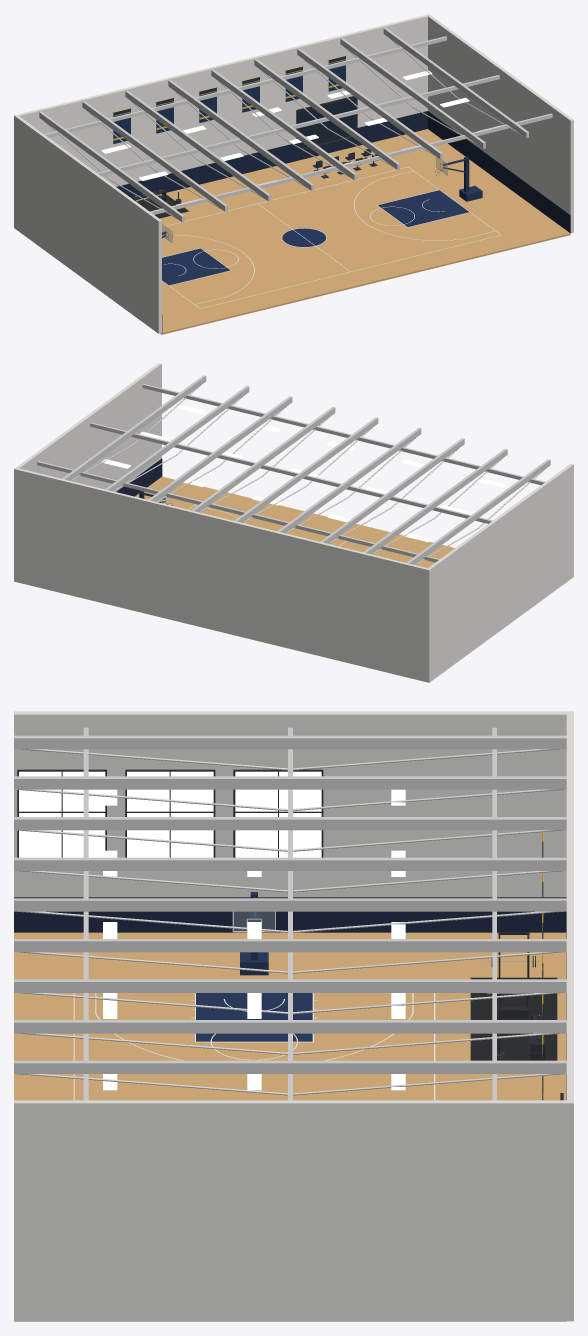
File: loc_practice_gym.glb
The picture shows the model from 3 angles, top to bottom: view 1: azimuth 30°, elevation 25°; view 2: azimuth 150°, elevation 25°; view 3: azimuth 270°, elevation 25°; orthographic projection. The views are drawn at different scales.
Visible parts, largest first — view 1: walls, floor, roof_trusses, walls_lower_band, court_paint, court_lines, film_screen, ceiling_lights, hoop_away_support, film_screen_frame; view 2: walls, roof_trusses, floor, ceiling_lights, walls_lower_band; view 3: walls, roof_trusses, floor, end_windows_glass, walls_lower_band, ceiling_lights, rubber_mat, court_paint, end_windows_frames, weight_racks, court_lines, hoop_home_support.
Boxes of the visible parts, bbox=[...] form: walls: bbox=[14, 14, 573, 333]; floor: bbox=[136, 129, 570, 334]; roof_trusses: bbox=[39, 27, 552, 222]; walls_lower_band: bbox=[116, 111, 570, 332]; court_paint: bbox=[162, 190, 469, 285]; court_lines: bbox=[162, 167, 501, 308]; film_screen: bbox=[299, 98, 355, 145]; ceiling_lights: bbox=[101, 70, 502, 204]; hoop_away_support: bbox=[442, 156, 482, 201]; film_screen_frame: bbox=[296, 96, 357, 150]; walls: bbox=[14, 363, 573, 682]; roof_trusses: bbox=[37, 375, 550, 564]; floor: bbox=[135, 476, 454, 567]; ceiling_lights: bbox=[102, 404, 506, 542]; walls_lower_band: bbox=[116, 458, 162, 496]; walls: bbox=[14, 711, 573, 1321]; roof_trusses: bbox=[14, 727, 566, 1100]; floor: bbox=[14, 932, 566, 1321]; end_windows_glass: bbox=[19, 771, 321, 857]; walls_lower_band: bbox=[14, 897, 566, 1099]; ceiling_lights: bbox=[103, 789, 405, 1090]; rubber_mat: bbox=[470, 977, 557, 1060]; court_paint: bbox=[196, 993, 312, 1041]; end_windows_frames: bbox=[17, 769, 323, 857]; weight_racks: bbox=[498, 932, 544, 1060]; court_lines: bbox=[73, 993, 435, 1100]; hoop_home_support: bbox=[240, 892, 268, 975].
Size of the model in its own units: 38.6 by 10.15 by 23.3.
